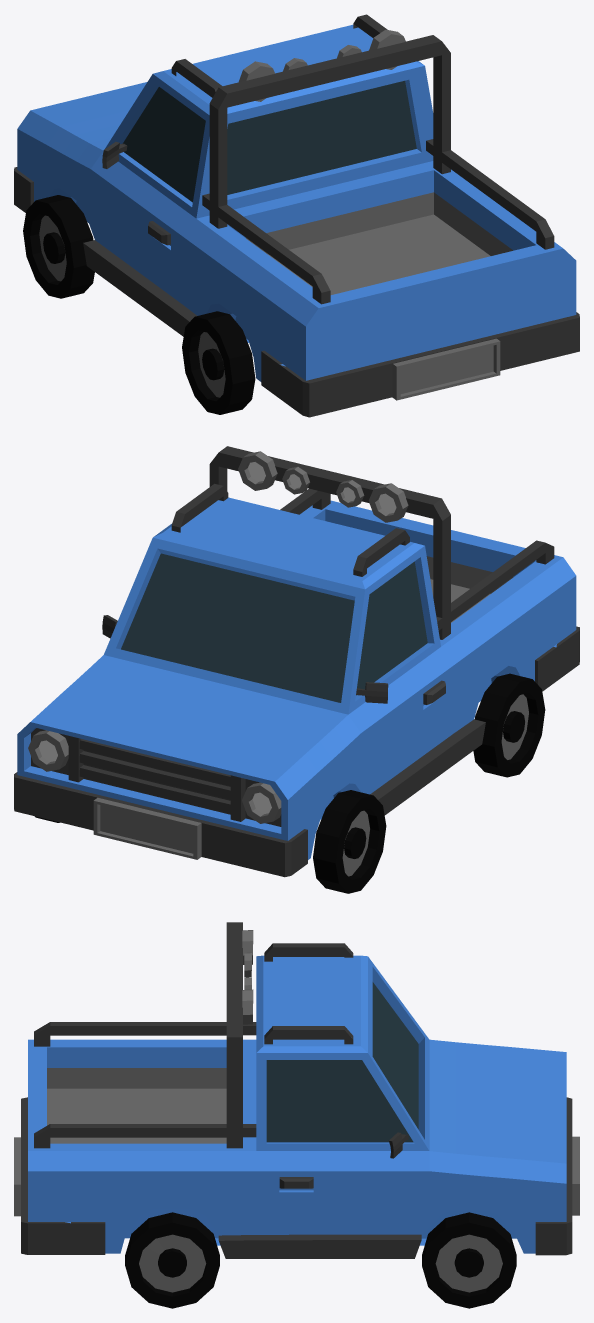
Rendered from Mobil.glb.
3 renders of one model, top to bottom at view 1: azimuth 30°, elevation 25°; view 2: azimuth 150°, elevation 25°; view 3: azimuth 270°, elevation 25°, orthographic. The views are drawn at different scales.
Parts seen in each view (by area): view 1: Cube.001; view 2: Cube.001; view 3: Cube.001.
Part boxes in pixels (x1=…): Cube.001: x1=14, y1=14, x2=579, y2=417; Cube.001: x1=14, y1=446, x2=579, y2=893; Cube.001: x1=14, y1=922, x2=579, y2=1308.
Size of the model in its own units: 2.72 by 2.47 by 4.57.
